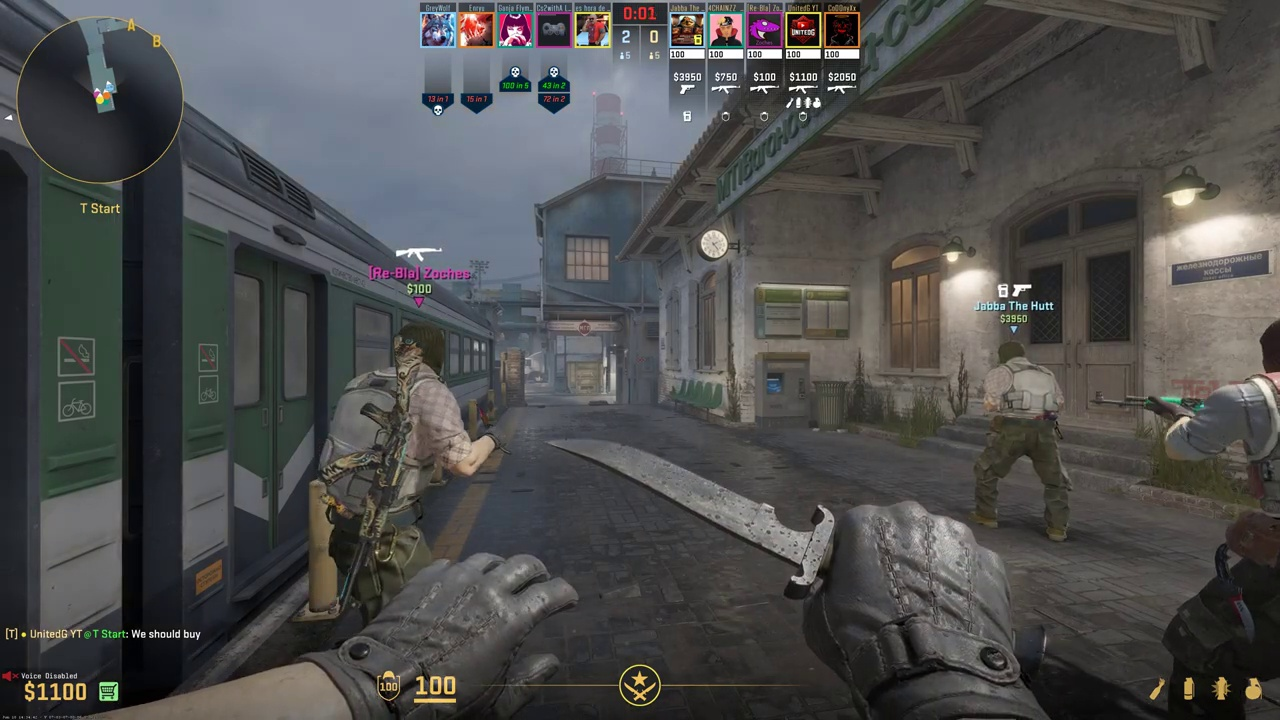Terrorist: (1160, 322, 1280, 715), (325, 322, 470, 631), (976, 340, 1076, 539)
